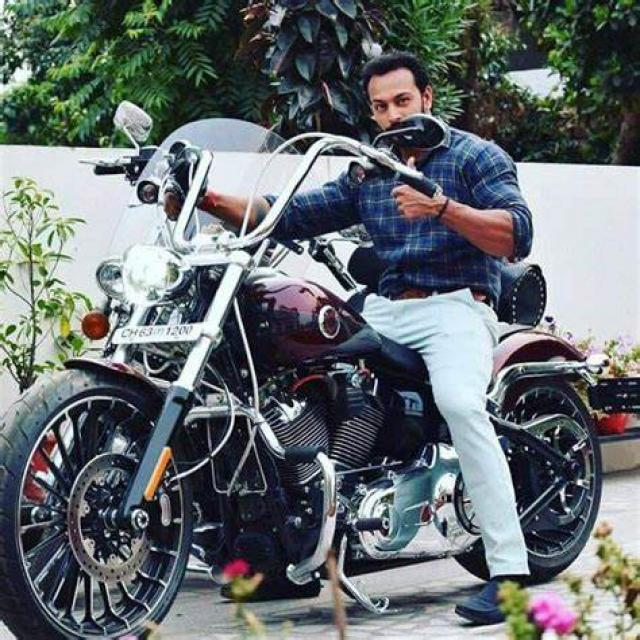Not Wearing Helmet: (327, 60, 483, 161)
